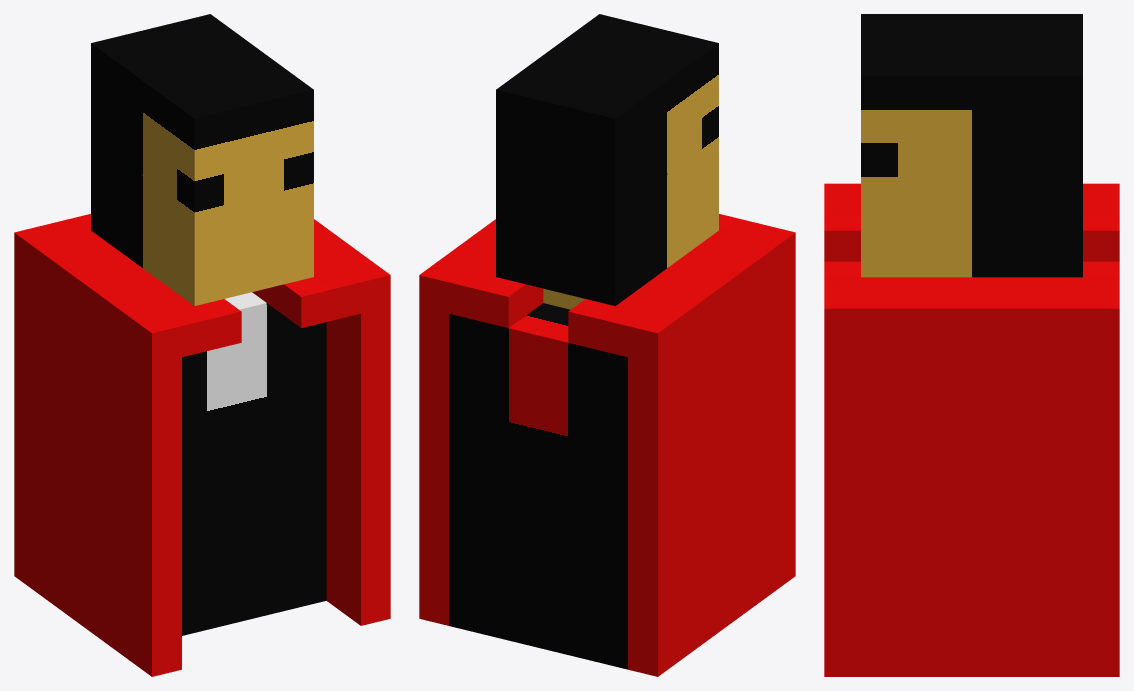
The model's file is Vampire.fbx.
The picture shows the model from 3 angles, left to right: view 1: azimuth 30°, elevation 25°; view 2: azimuth 150°, elevation 25°; view 3: azimuth 270°, elevation 25°; orthographic projection. The views are drawn at different scales.
Visible parts, largest first — view 1: Vampire; view 2: Vampire; view 3: Vampire.
Part boxes in pixels (<box>): Vampire: <box>14,14,390,676</box>; Vampire: <box>419,14,795,676</box>; Vampire: <box>824,14,1119,676</box>.
Bounding box in the file's own units: 8 × 17 × 8.
1 material, 1 textured.
